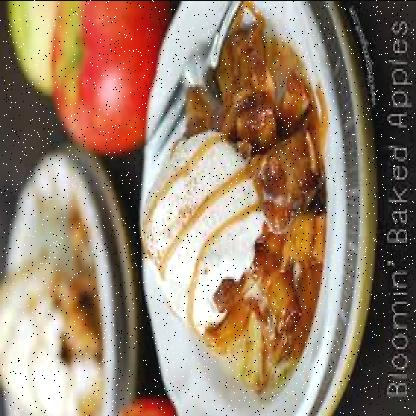apple: (52, 7, 168, 154)
